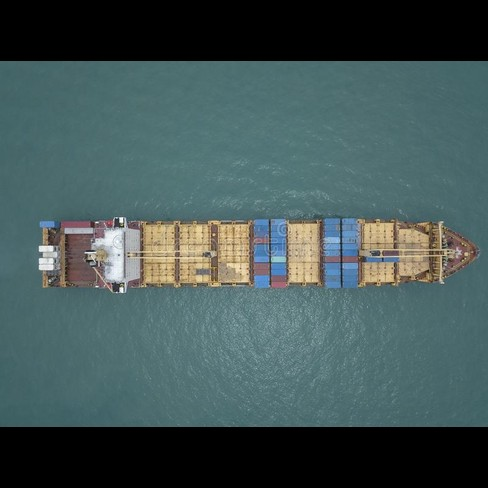boat: (31, 211, 483, 297)
